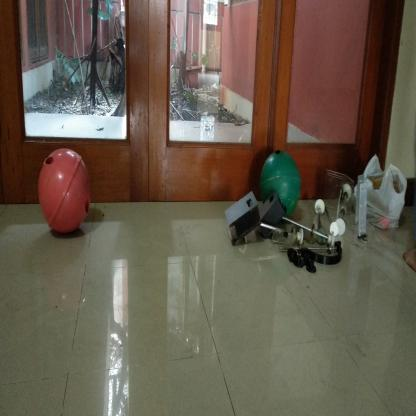green_buoy: (260, 146, 302, 224)
red_buoy: (35, 142, 93, 238)
